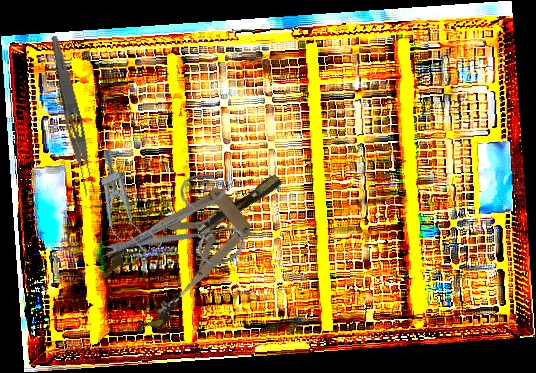Dressing Forceps: (43, 34, 100, 198)
Iris Scissors: (95, 146, 267, 320)
Speculum: (91, 144, 307, 341), (81, 145, 164, 265)
